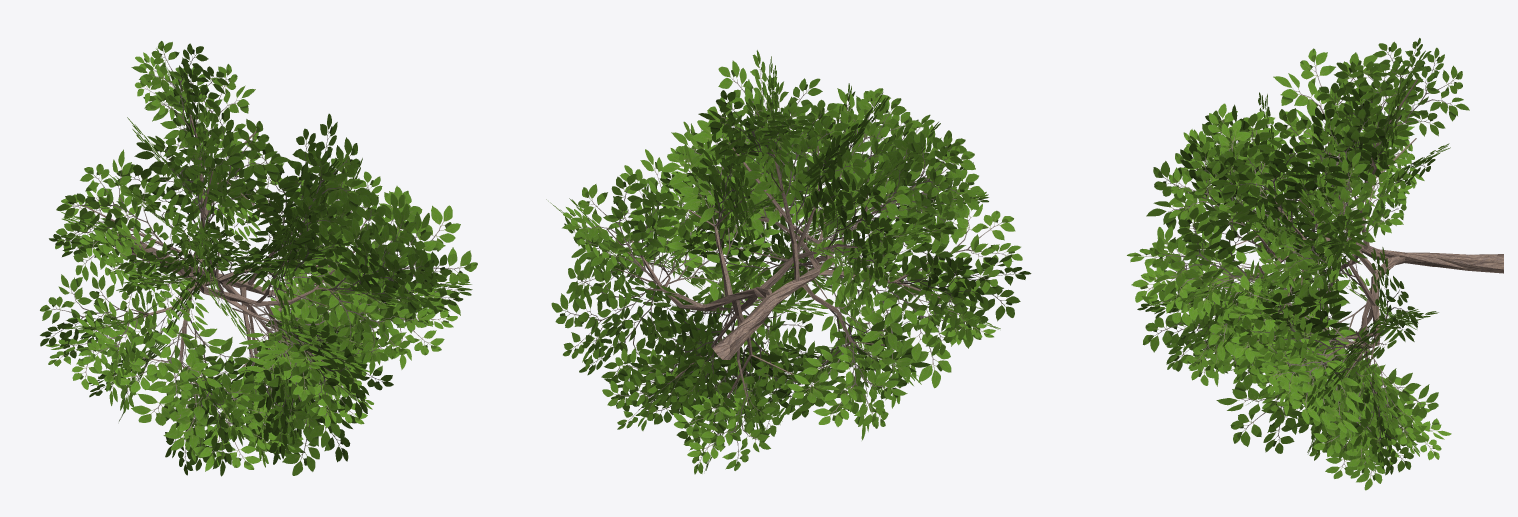
The model's file is lemon_tree_03.glb.
The picture shows the model from 3 angles, left to right: view 1: azimuth 30°, elevation 25°; view 2: azimuth 150°, elevation 25°; view 3: azimuth 270°, elevation 25°; orthographic projection. The views are drawn at different scales.
Visible parts, largest first — view 1: Lemon_Branch, Lemon_Bark; view 2: Lemon_Branch, Lemon_Bark; view 3: Lemon_Branch, Lemon_Bark.
Boxes of the visible parts, <box> form: Lemon_Branch: <box>40,41,477,476</box>; Lemon_Bark: <box>82,89,369,408</box>; Lemon_Branch: <box>546,50,1031,474</box>; Lemon_Bark: <box>606,112,947,423</box>; Lemon_Branch: <box>1127,38,1469,490</box>; Lemon_Bark: <box>1219,79,1503,454</box>.
Bounding box in the file's own units: 4.48 × 4.1 × 3.48.
Materials: 2 (2 with a texture image).
